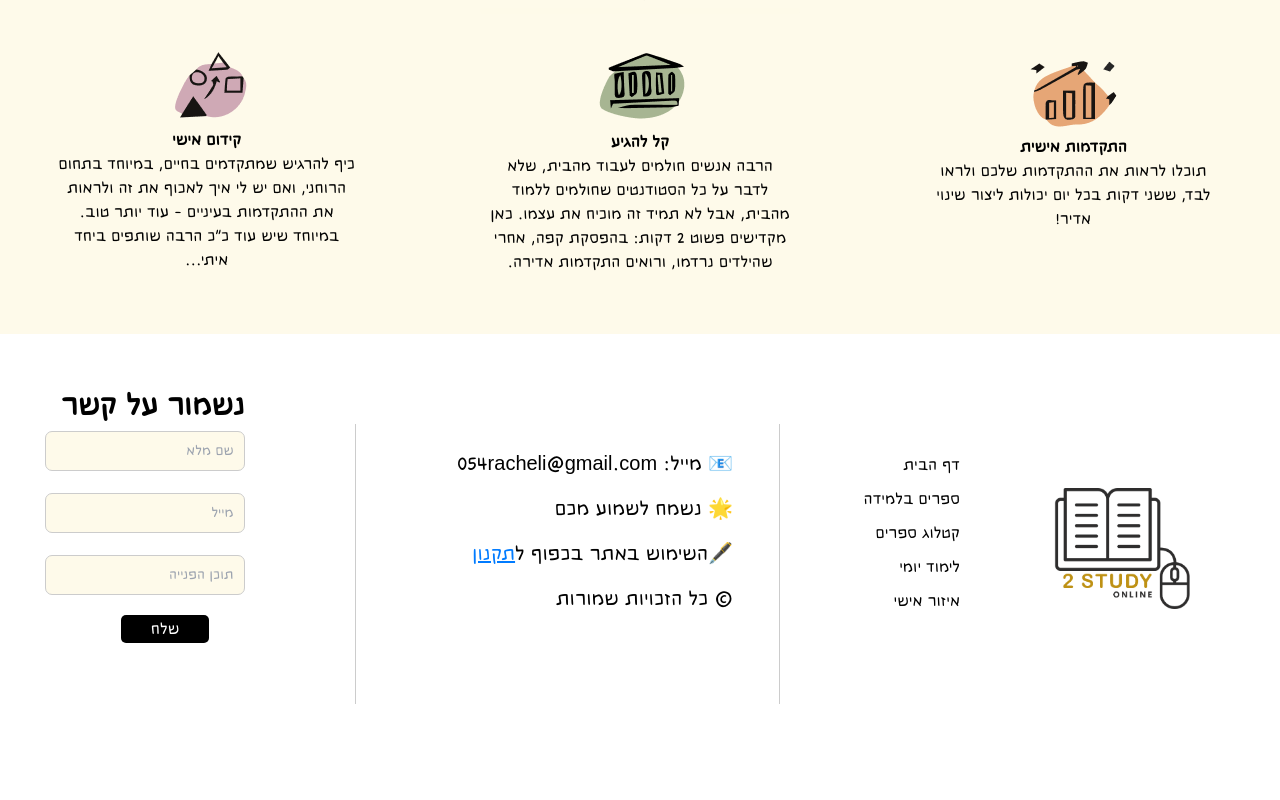
Test: Footer Contact Form › invalid email format
(page scrolled)
Type "invalid_email" into the field named "email".
click(145, 513); type("invalid_email")  # box [45,493,245,533]
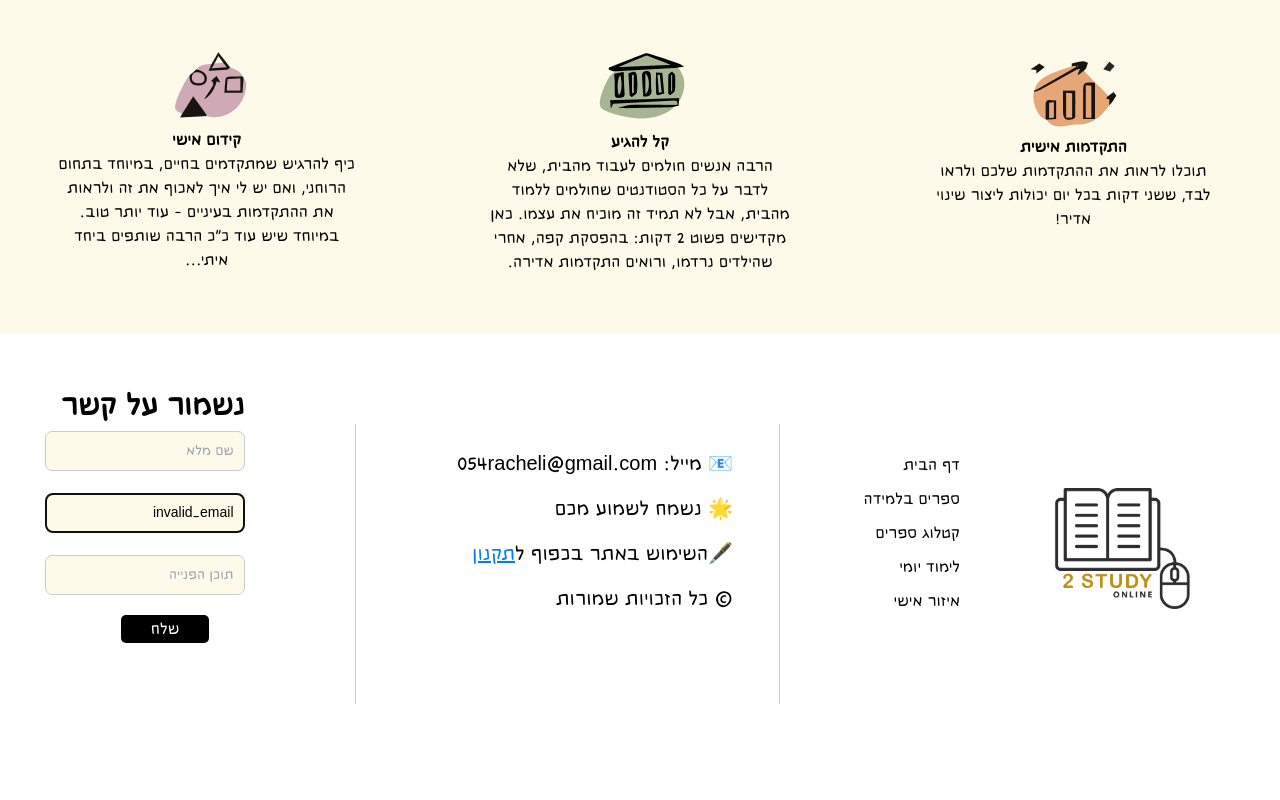
Click the submit button.
click(165, 629)  # box [121,615,209,643]
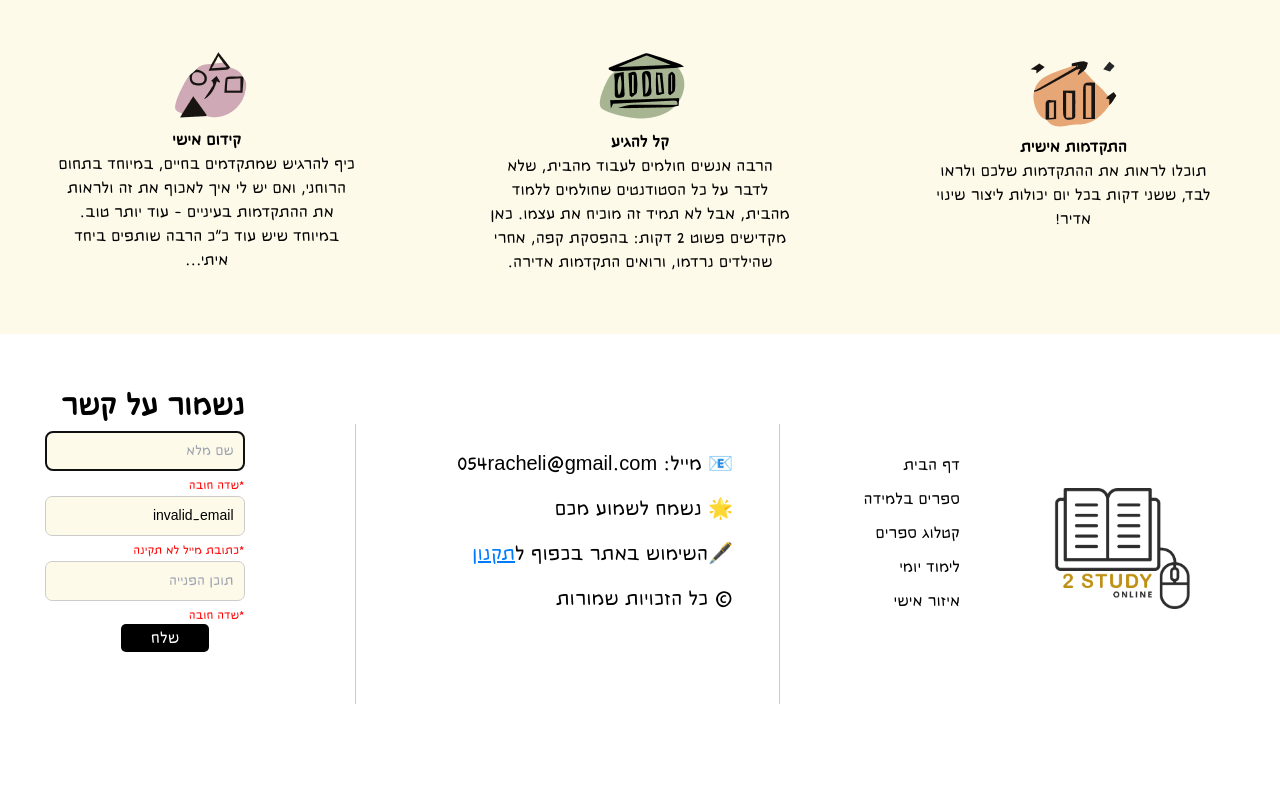
Result: the text "*כתובת מייל לא תקינה" is shown at [133,541,244,559]
